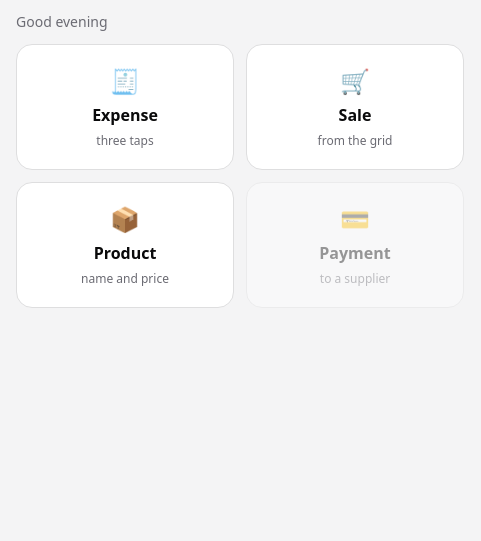
Test case: QuickEntry stage 2 — sale › totals quantity times price as quantities change
Click the button "🛒 Sale from the grid" at (355, 107), box [246,44,464,170]
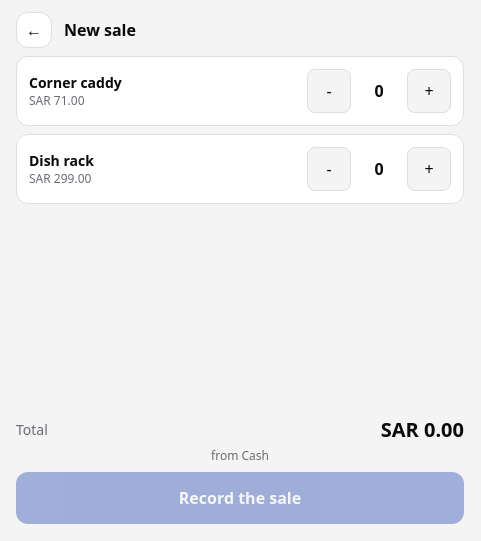
Click the button "+" in the row of "Corner caddy" at (429, 91), box [407,69,451,113]
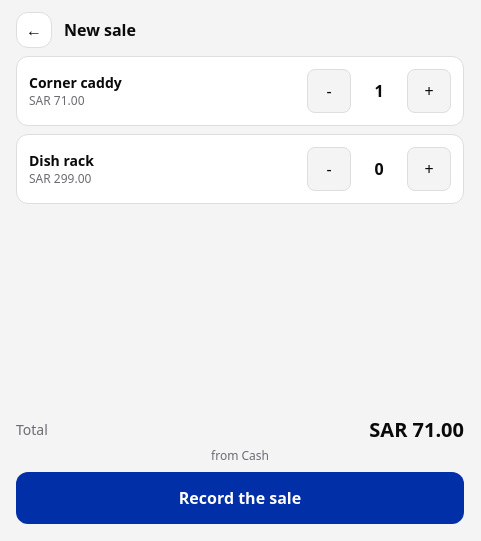
Click the button "+" in the row of "Corner caddy" at (429, 91), box [407,69,451,113]
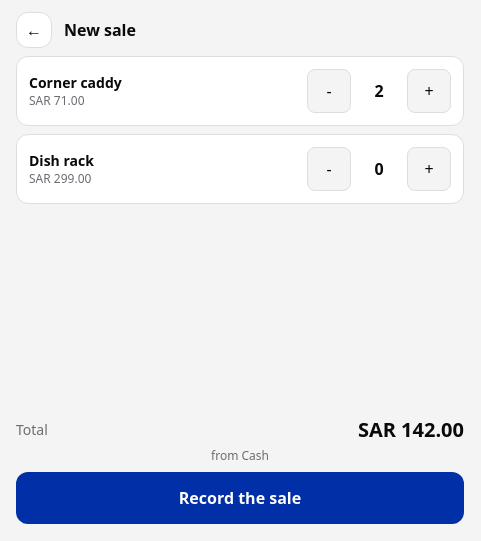
Click the button "+" in the row of "Dish rack" at (429, 169), box [407,147,451,191]
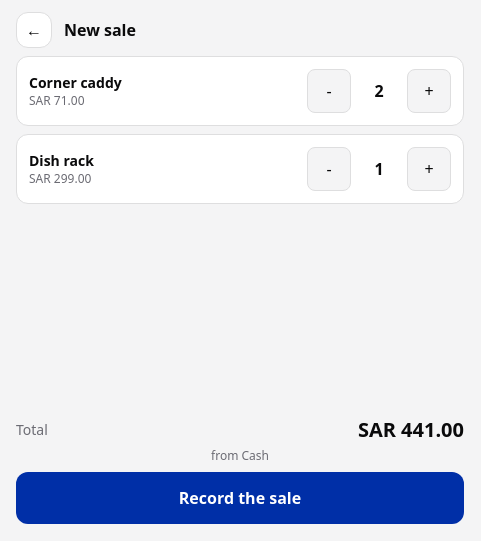
Expected: the button "Record the sale" is enabled, [16,472,464,524]
Expected: the text with test id "quick-sale-total" shows "441.00", [358,416,464,443]
